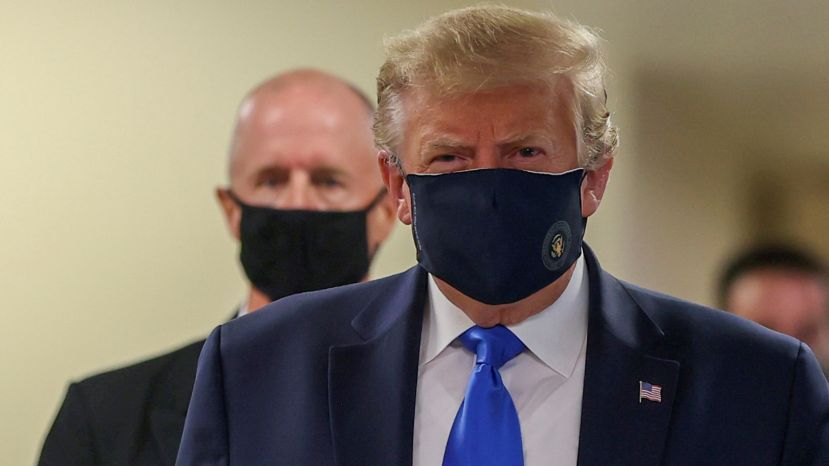barbijo: (378, 143, 600, 303), (209, 179, 384, 293)
